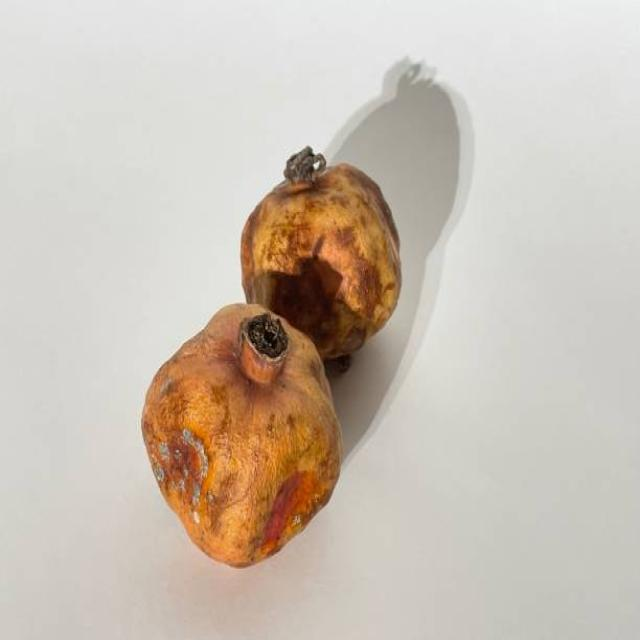overripe: (141, 296, 345, 572), (235, 143, 404, 338)
